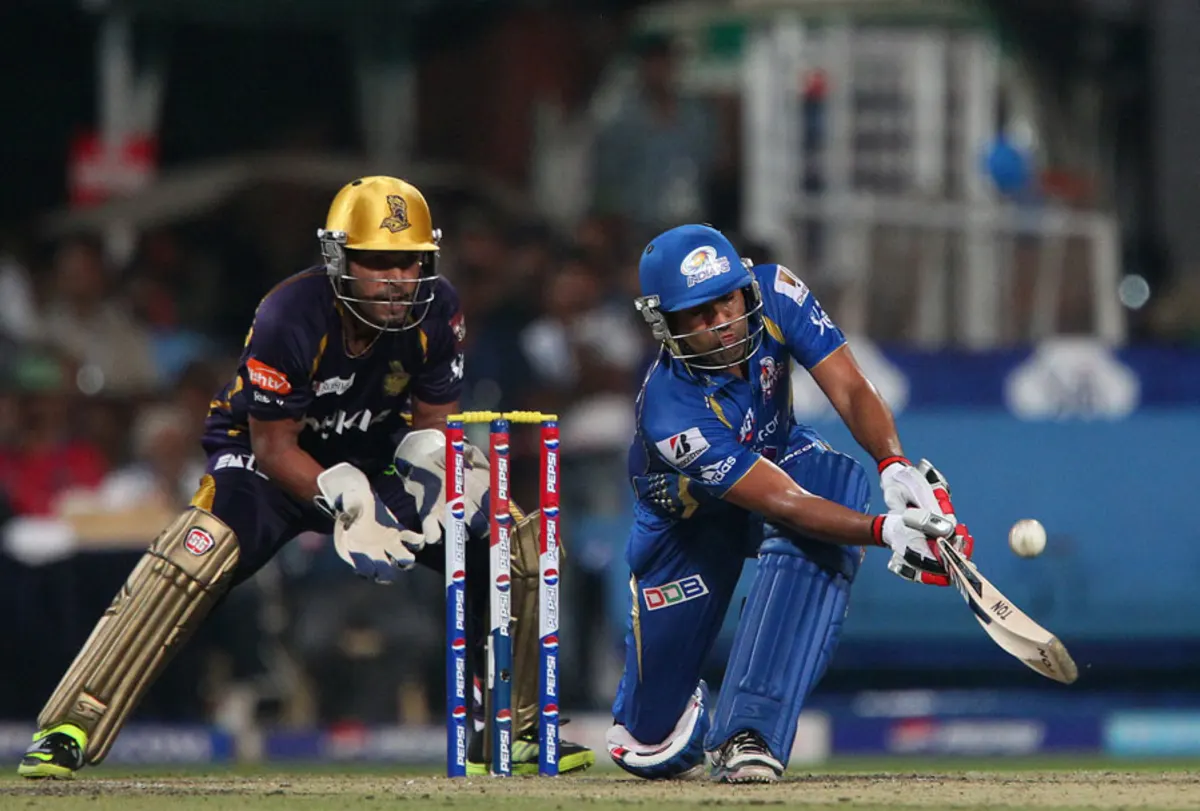Sweepshot: (488, 139, 1144, 811)
